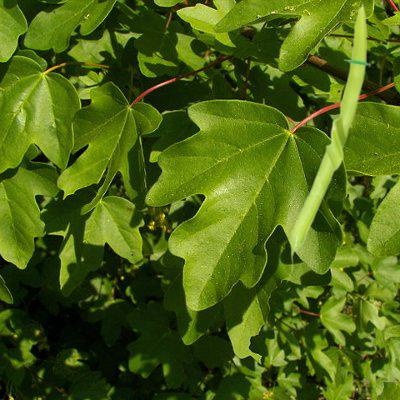french_bean: (286, 0, 369, 282)
